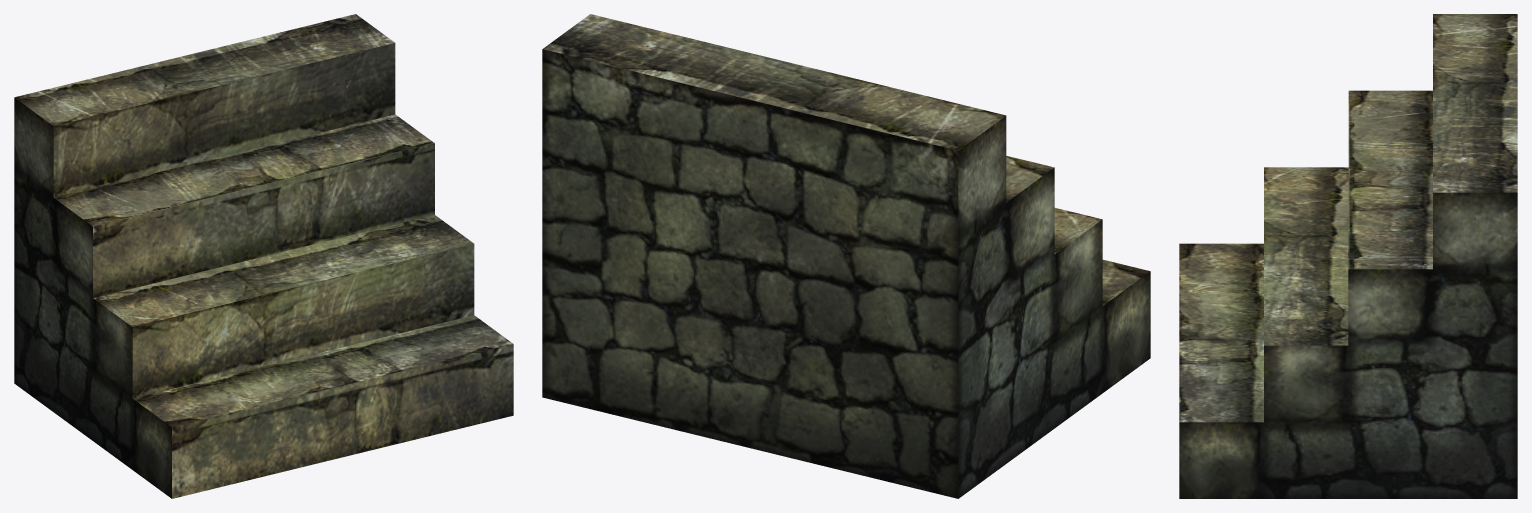
File: Lab_Stair.gltf
3 views of the same model, side by side, from view 1: azimuth 30°, elevation 25°; view 2: azimuth 150°, elevation 25°; view 3: azimuth 270°, elevation 25° (orthographic). The views are drawn at different scales.
Parts seen in each view (by area): view 1: Lab_Stair; view 2: Lab_Stair; view 3: Lab_Stair.
Part boxes in pixels (left/top/right/bottom): Lab_Stair: left=14, top=14, right=513, bottom=498; Lab_Stair: left=542, top=14, right=1150, bottom=498; Lab_Stair: left=1179, top=14, right=1517, bottom=498.
Bounding box in the file's own units: 0.0163 × 0.013 × 0.013.
1 material, 1 textured.
